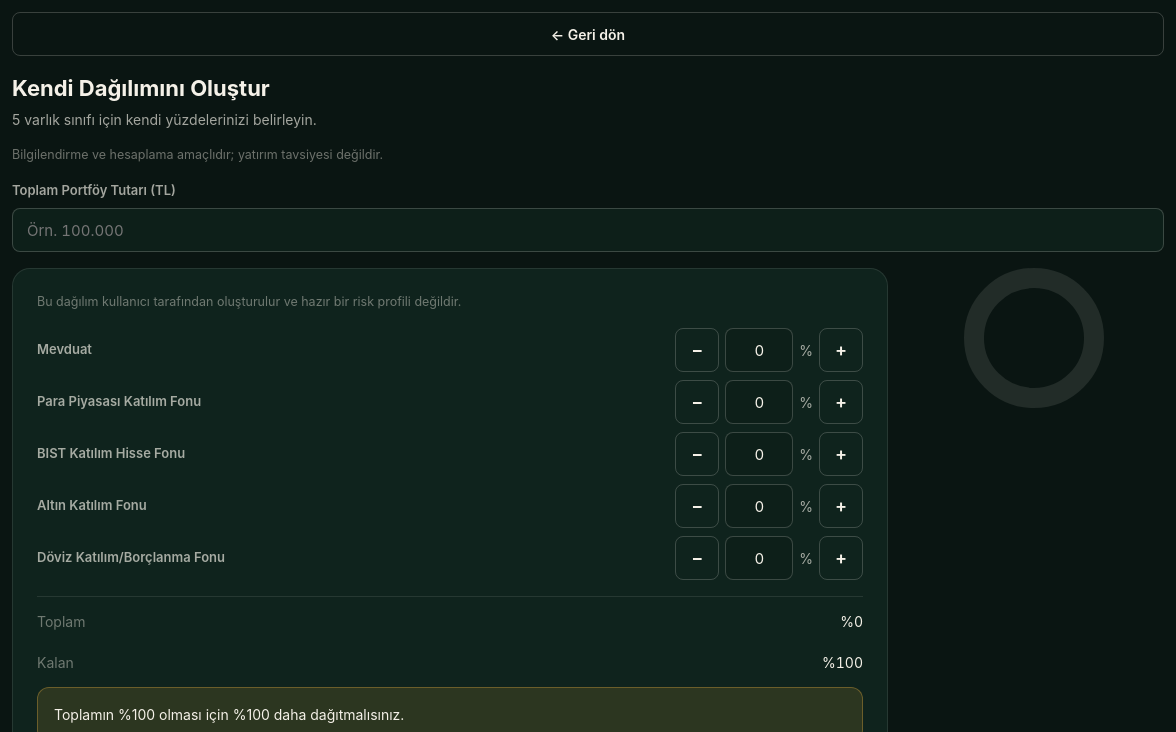
Test: CustomAllocationPage — toplam kontrolü › negatif değer 0'a, 100'den büyük değer 100'e kırpılır (mevcut artı/eksi davranışı korunur)
The image size is (1176, 732).
Step 1. Replace the text in the number field labelled "Mevduat" with "-5" → (759, 350), box [725,328,793,372]
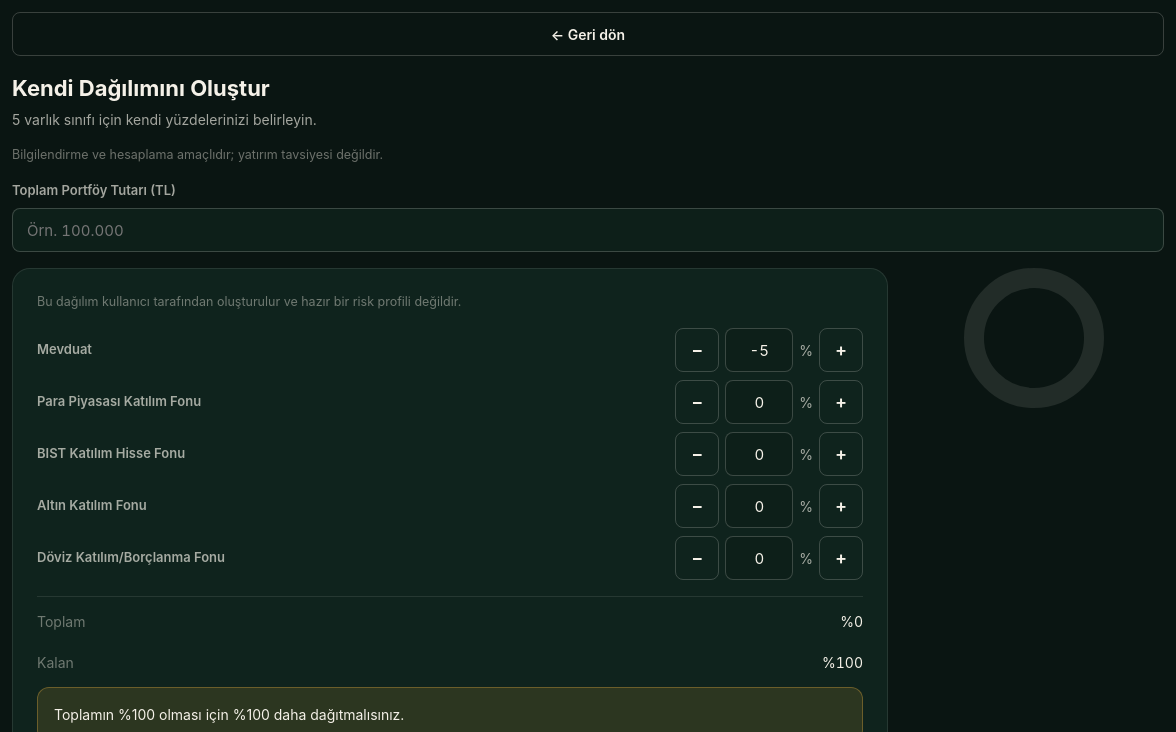
Step 2. Leave the number field labelled "Mevduat", box [725,328,793,372]
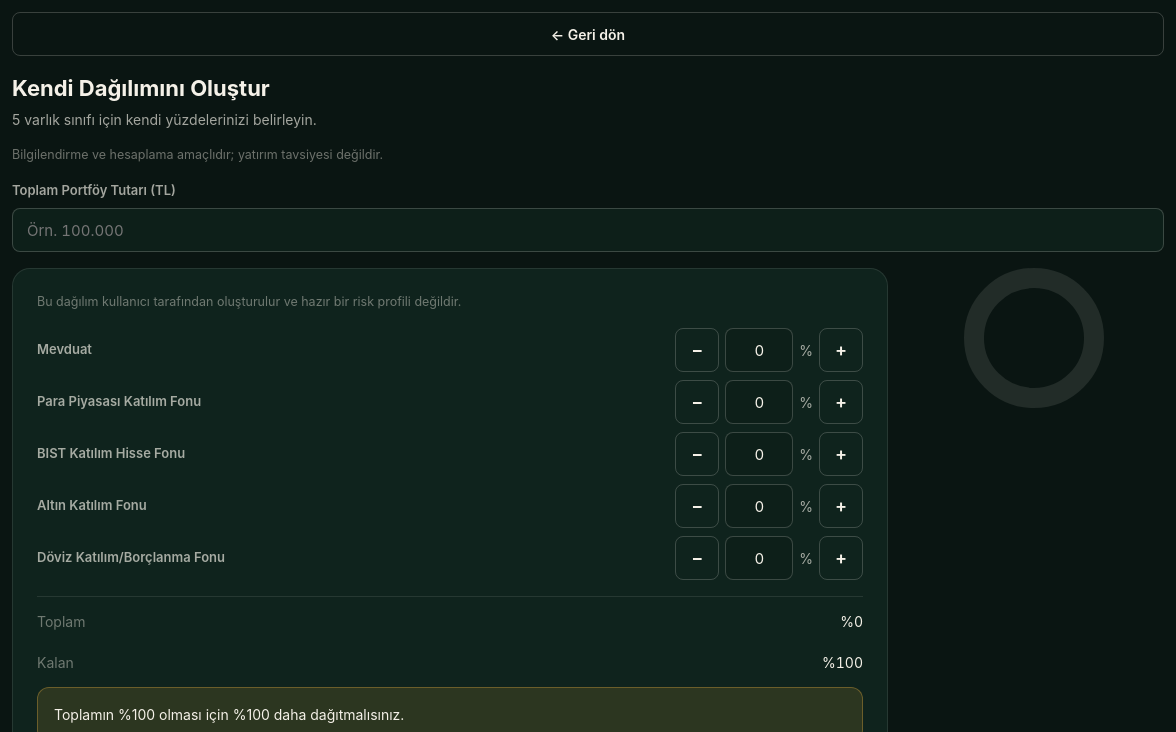
Check: the number field labelled "Mevduat" holds "0"
Step 3. Replace the text in the number field labelled "Mevduat" with "250" → (759, 350), box [725,328,793,372]
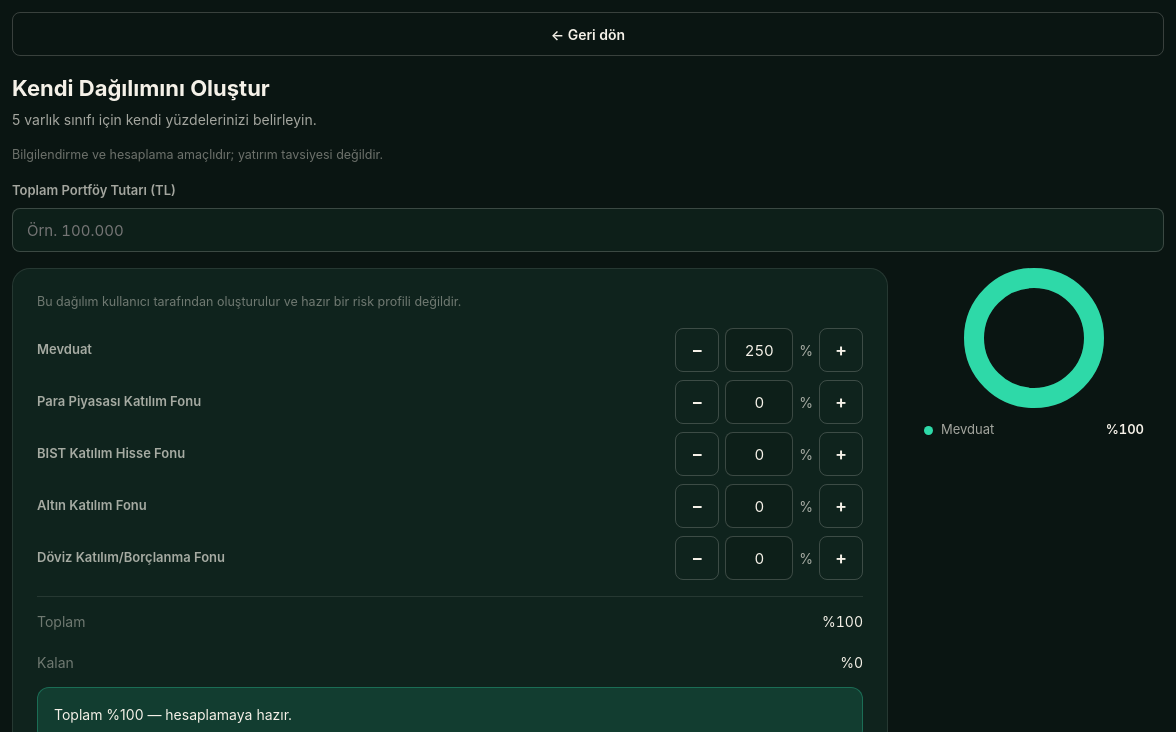
Step 4. Leave the number field labelled "Mevduat", box [725,328,793,372]
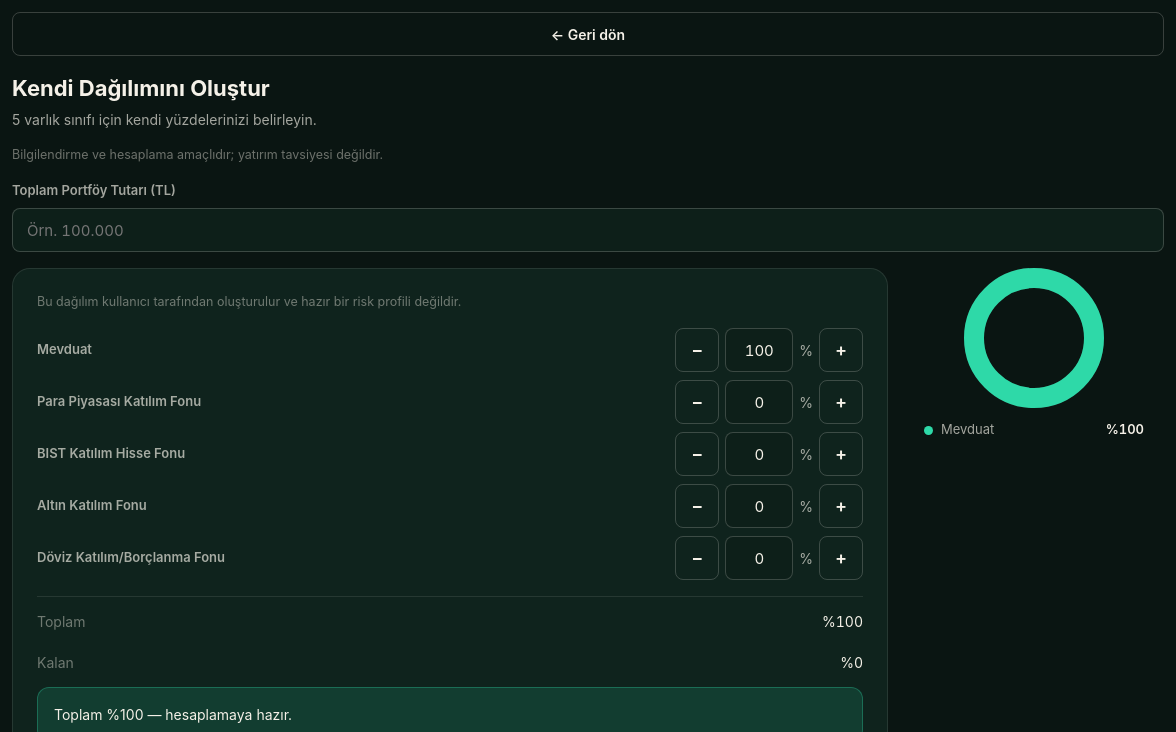
Check: the number field labelled "Mevduat" holds "100", box [725,328,793,372]
